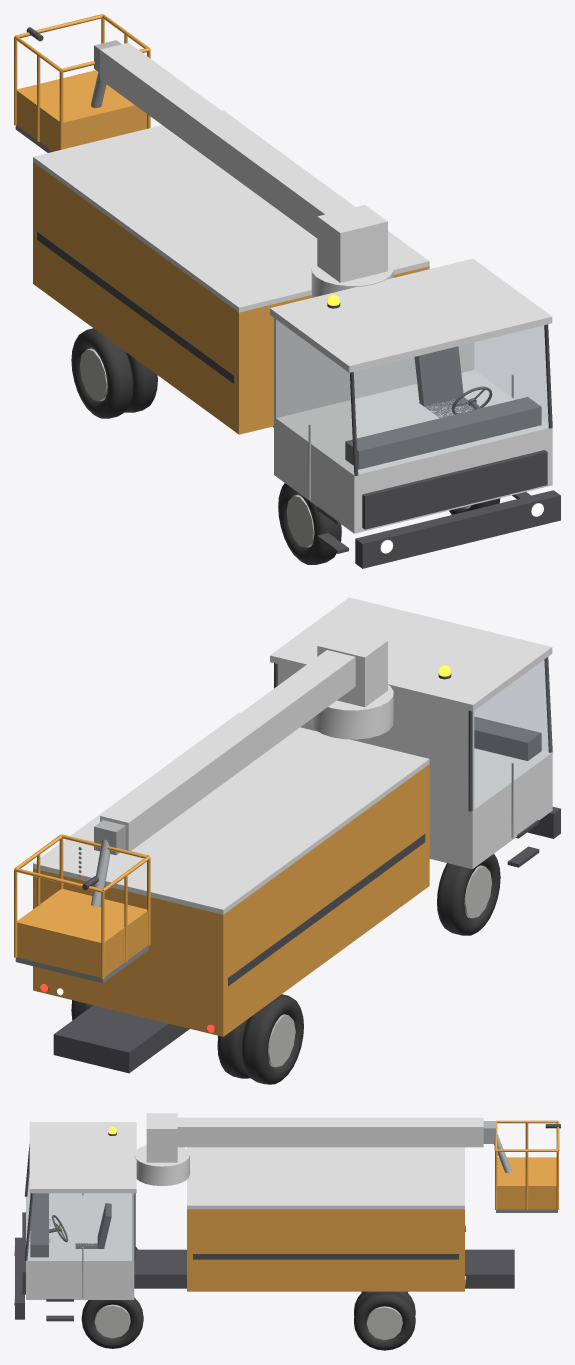
File: DeicingTruck.glb
3 views of the same model, one above another, from view 1: azimuth 30°, elevation 25°; view 2: azimuth 150°, elevation 25°; view 3: azimuth 270°, elevation 25° (orthographic). The views are drawn at different scales.
Visible parts, largest first — view 1: Body, Boom, Basket, BoomTurret, Wheel_RR, Wheel_FR; view 2: Body, Boom, Basket, BoomTurret, Wheel_RR, Wheel_FR, BoomExt; view 3: Body, Boom, Basket, Wheel_RL, BoomTurret, Wheel_FL.
Part boxes in pixels (box(x1,y1,x2,y2)): Body: box(33, 110, 560, 568); Boom: box(100, 42, 353, 237); Basket: box(14, 14, 150, 152); BoomTurret: box(311, 205, 393, 297); Wheel_RR: box(71, 328, 157, 418); Wheel_FR: box(278, 483, 341, 564); Body: box(33, 597, 560, 1073); Boom: box(100, 650, 355, 850); Basket: box(14, 834, 150, 983); BoomTurret: box(311, 629, 393, 739); Wheel_RR: box(217, 994, 303, 1084); Wheel_FR: box(437, 854, 500, 935); BoomExt: box(94, 820, 125, 855); Body: box(14, 1122, 514, 1321); Boom: box(177, 1117, 483, 1147); Basket: box(493, 1120, 560, 1212); Wheel_RL: box(354, 1291, 415, 1350); BoomTurret: box(134, 1113, 189, 1186); Wheel_FL: box(81, 1297, 143, 1348).
Size of what is drawn, in the model's own units: 2.59 by 3.56 by 8.85.
